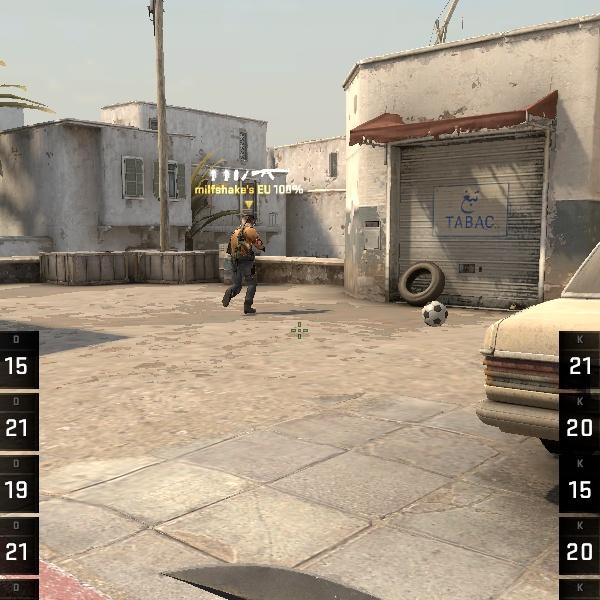t_body: (216, 212, 275, 317)
